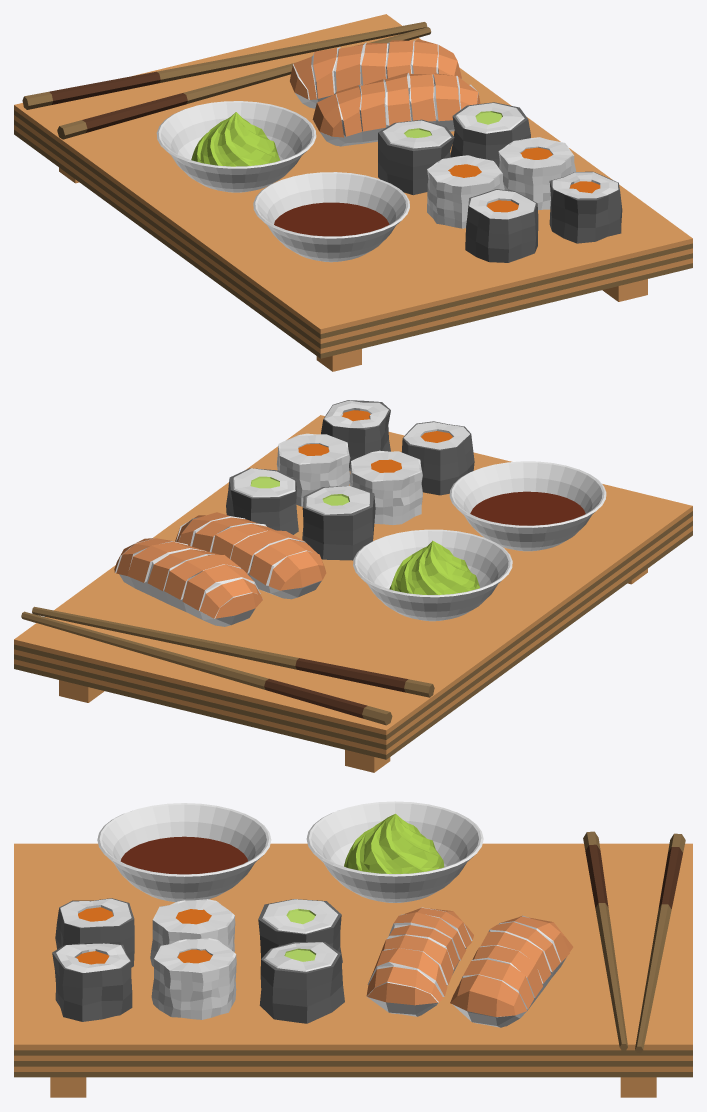
File: sushi.fbx
The picture shows the model from 3 angles, top to bottom: view 1: azimuth 30°, elevation 25°; view 2: azimuth 150°, elevation 25°; view 3: azimuth 270°, elevation 25°; orthographic projection. The views are drawn at different scales.
Visible parts, largest first — view 1: Table, Bowl.001, Bowl.002, Nigiri_salmon.002, Nigiri_salmon.001, Maki_salmon.002, Stick.001, Maki_salmon.001, Maki_cucumber.002, California_roll.002, California_roll.001, Maki_cucumber.001 (+2 smaller); view 2: Table, Bowl.001, Nigiri_salmon.001, Bowl.002, Nigiri_salmon.002, Stick.002, Maki_cucumber.002, Stick.001, California_roll.002, Maki_salmon.002, Maki_cucumber.001, California_roll.001 (+2 smaller); view 3: Table, Bowl.001, Bowl.002, Nigiri_salmon.001, Nigiri_salmon.002, California_roll.001, Maki_cucumber.001, Maki_salmon.001, Cylinder.003, Maki_cucumber.002, Maki_salmon.002, California_roll.002 (+2 smaller).
Boxes of the visible parts, x1=… form: Table: x1=14, y1=14, x2=692, y2=371; Bowl.001: x1=253, y1=172, x2=409, y2=262; Bowl.002: x1=156, y1=101, x2=316, y2=192; Nigiri_salmon.002: x1=312, y1=72, x2=480, y2=146; Nigiri_salmon.001: x1=290, y1=39, x2=461, y2=108; Maki_salmon.002: x1=465, y1=189, x2=538, y2=262; Stick.001: x1=22, y1=22, x2=427, y2=109; Maki_salmon.001: x1=549, y1=171, x2=622, y2=243; Maki_cucumber.002: x1=378, y1=119, x2=454, y2=195; California_roll.002: x1=427, y1=155, x2=504, y2=228; California_roll.001: x1=498, y1=137, x2=575, y2=210; Maki_cucumber.001: x1=450, y1=102, x2=530, y2=167; Table: x1=14, y1=415, x2=692, y2=772; Bowl.001: x1=449, y1=461, x2=606, y2=551; Nigiri_salmon.001: x1=114, y1=538, x2=263, y2=626; Bowl.002: x1=353, y1=529, x2=512, y2=621; Nigiri_salmon.002: x1=175, y1=512, x2=326, y2=599; Stick.002: x1=32, y1=606, x2=434, y2=697; Maki_cucumber.002: x1=302, y1=486, x2=375, y2=560; Stick.001: x1=21, y1=611, x2=392, y2=725; California_roll.002: x1=349, y1=450, x2=422, y2=524; Maki_salmon.002: x1=401, y1=421, x2=474, y2=495; Maki_cucumber.001: x1=226, y1=468, x2=298, y2=534; California_roll.001: x1=276, y1=433, x2=350, y2=506; Table: x1=14, y1=843, x2=692, y2=1097; Bowl.001: x1=97, y1=803, x2=271, y2=902; Bowl.002: x1=306, y1=801, x2=483, y2=902; Nigiri_salmon.001: x1=450, y1=915, x2=573, y2=1027; Nigiri_salmon.002: x1=366, y1=907, x2=473, y2=1016; California_roll.001: x1=151, y1=938, x2=236, y2=1019; Maki_cucumber.001: x1=259, y1=942, x2=344, y2=1023; Maki_salmon.001: x1=52, y1=943, x2=132, y2=1021; Cylinder.003: x1=344, y1=813, x2=444, y2=873; Maki_cucumber.002: x1=258, y1=899, x2=342, y2=962; Maki_salmon.002: x1=55, y1=898, x2=134, y2=967; California_roll.002: x1=150, y1=899, x2=235, y2=966.
Bounding box in the file's own units: 171 × 55.49 × 234.
